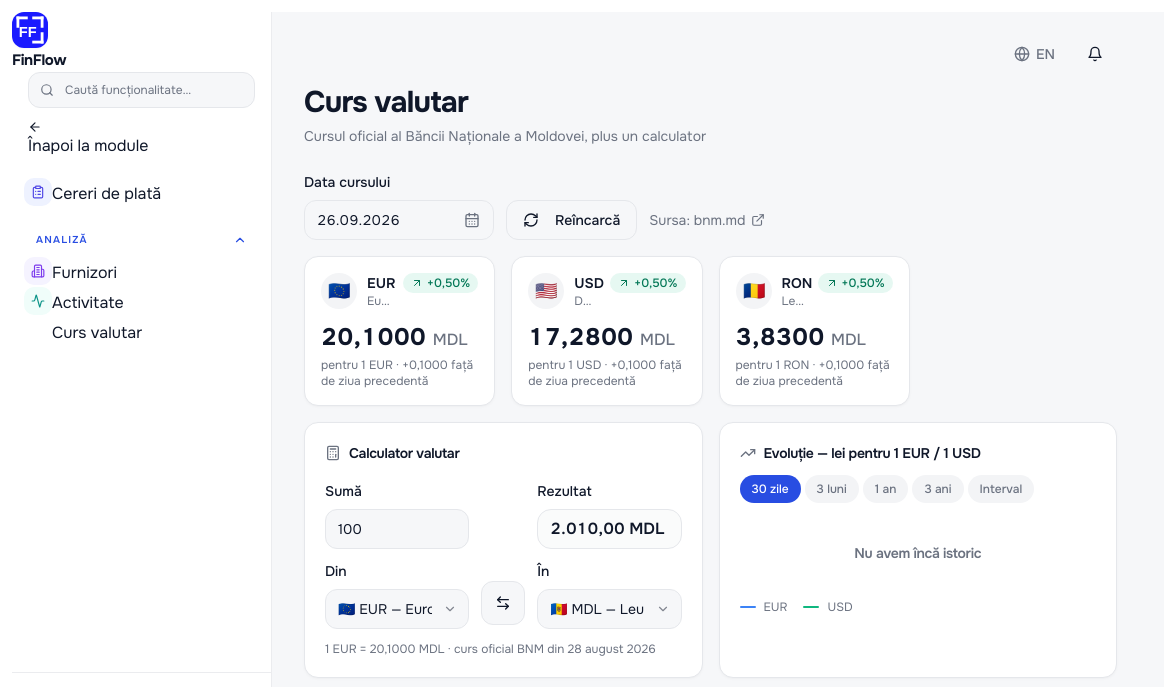
ParExchange › recalculează la schimbarea sumei
Replace the text in the field labelled "Sumă" with "50": (397, 529) [325,509,469,549]
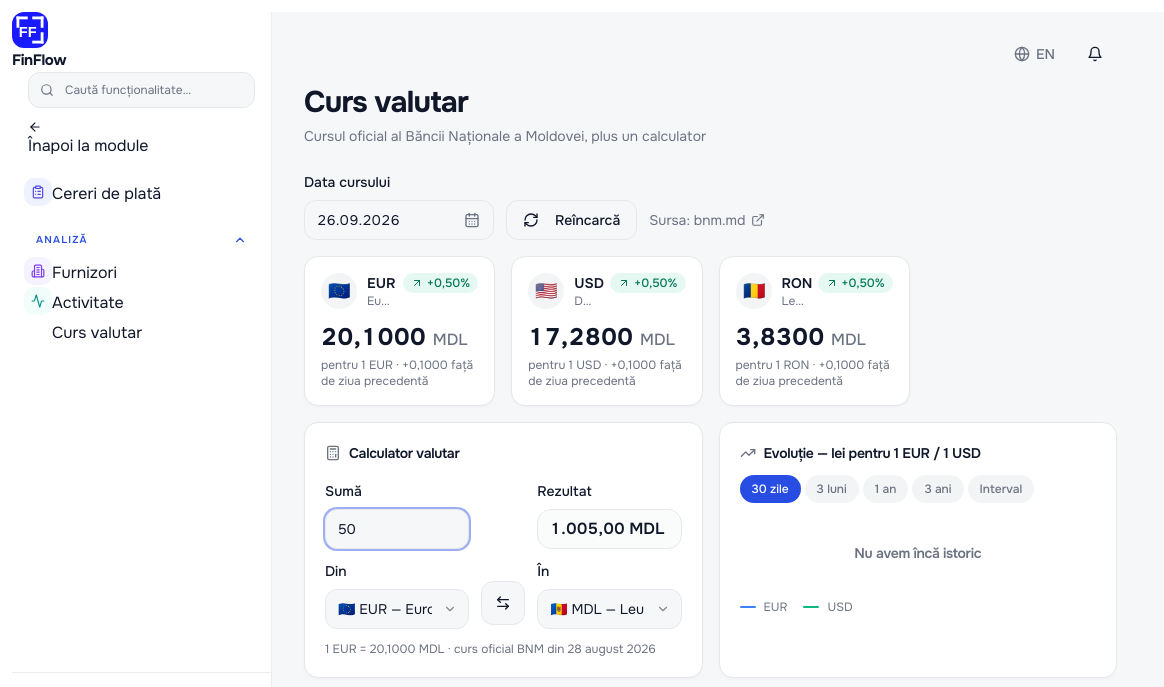
Now the message reads "1.005,00 MDL", box [550,518,664,539]
